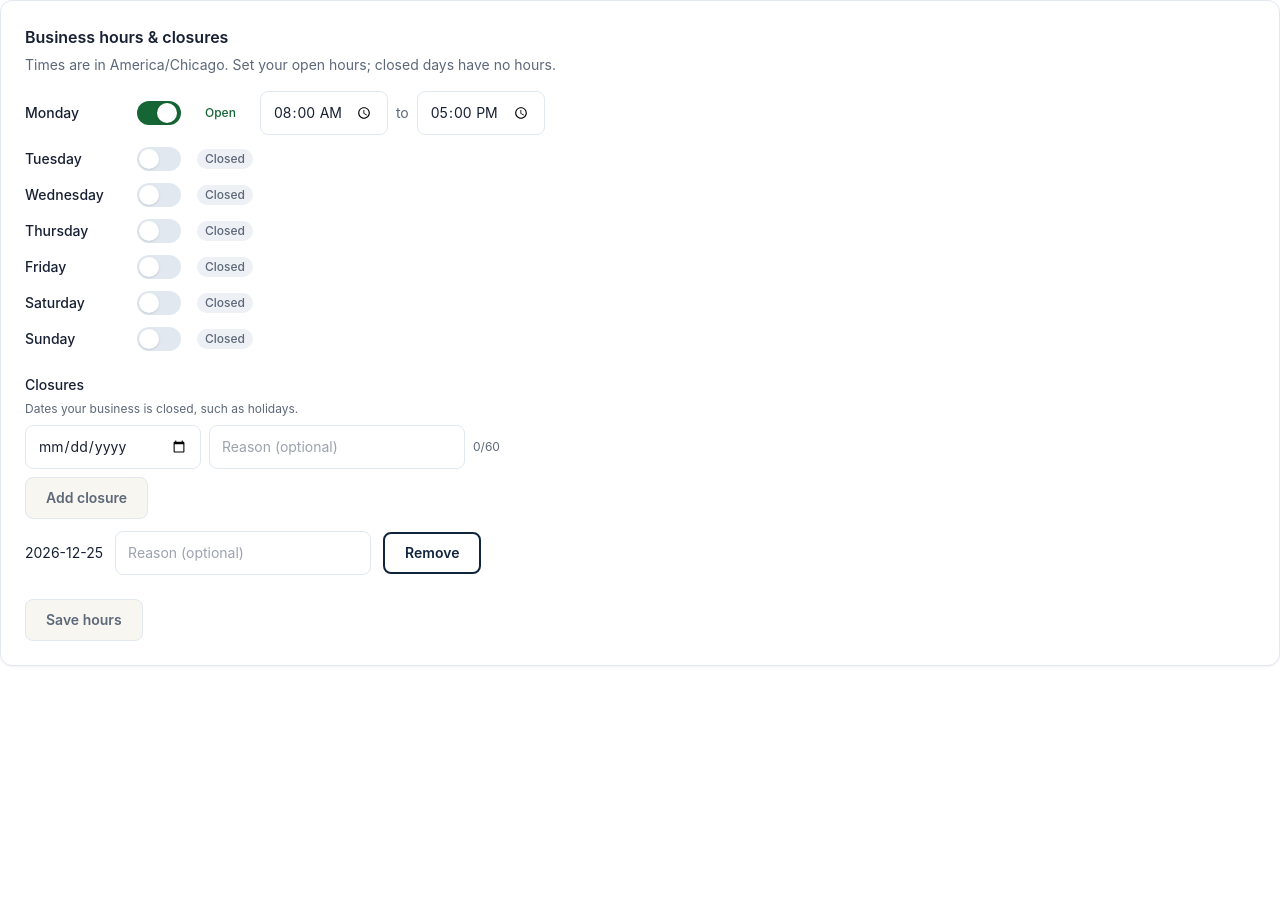
CalendarSection › adds closures sorted, blocks duplicates, and removes them
Type "2026-11-26" into the date field named "Closure date".
click(113, 447); type("2026-11-26")  # box [25,425,201,469]
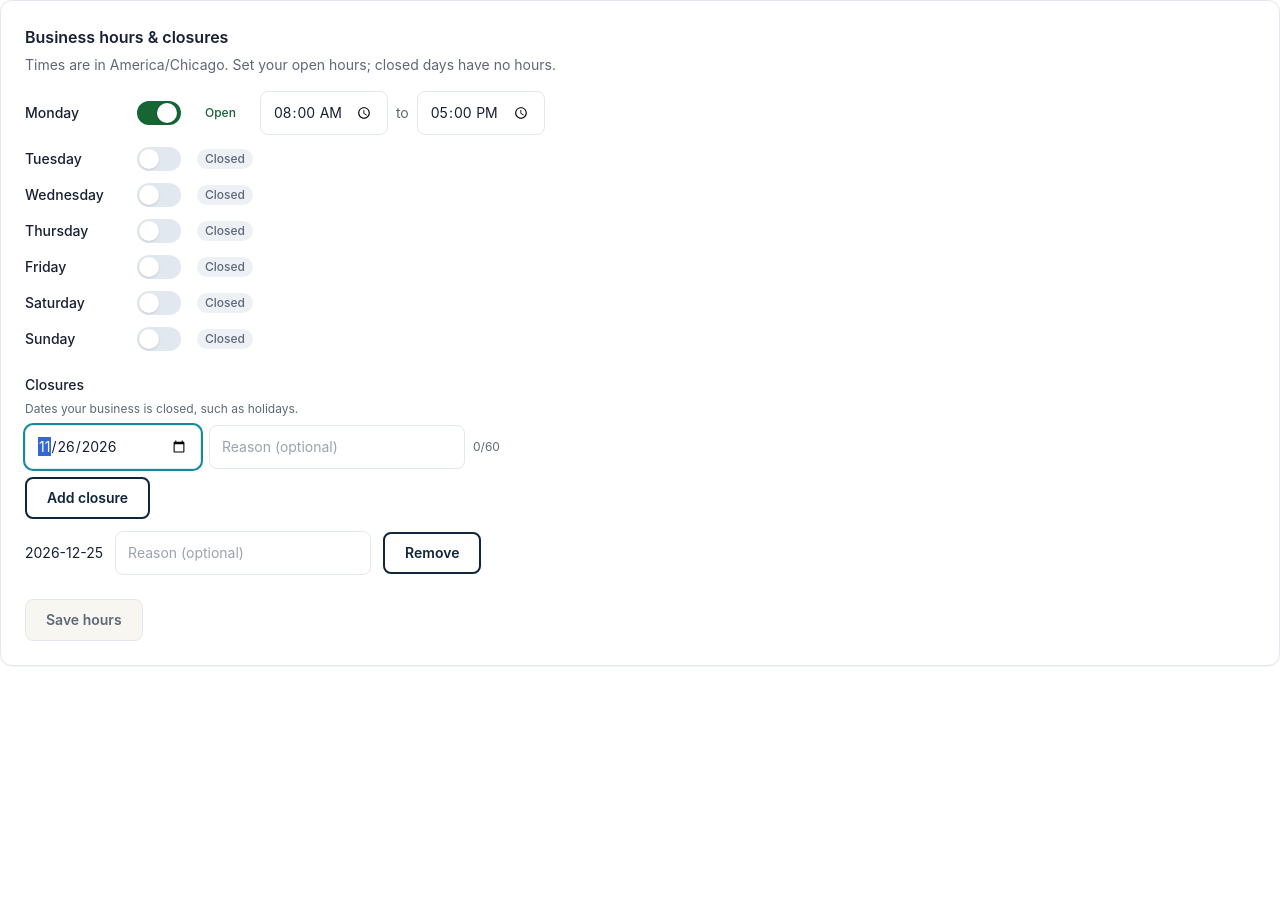
Click the button "Add closure".
click(88, 498)  # box [25,477,150,519]
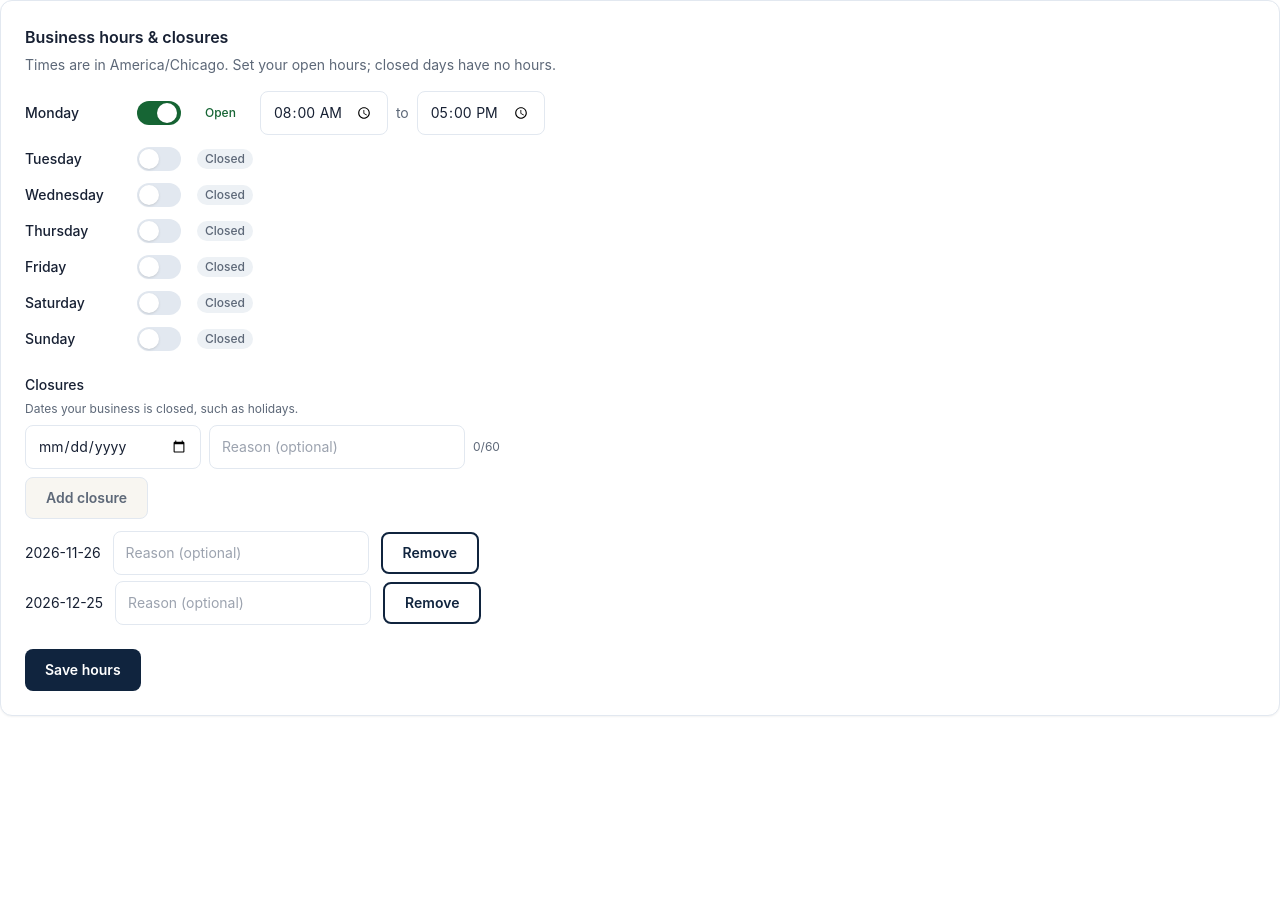
Expected: the list item "2026-12-25 Remove" is shown, [25,581,481,625]
Now the list item "2026-11-26 Remove" is shown, box [25,531,479,575]
Type "2026-12-25" into the date field named "Closure date".
click(113, 447); type("2026-12-25")  # box [25,425,201,469]
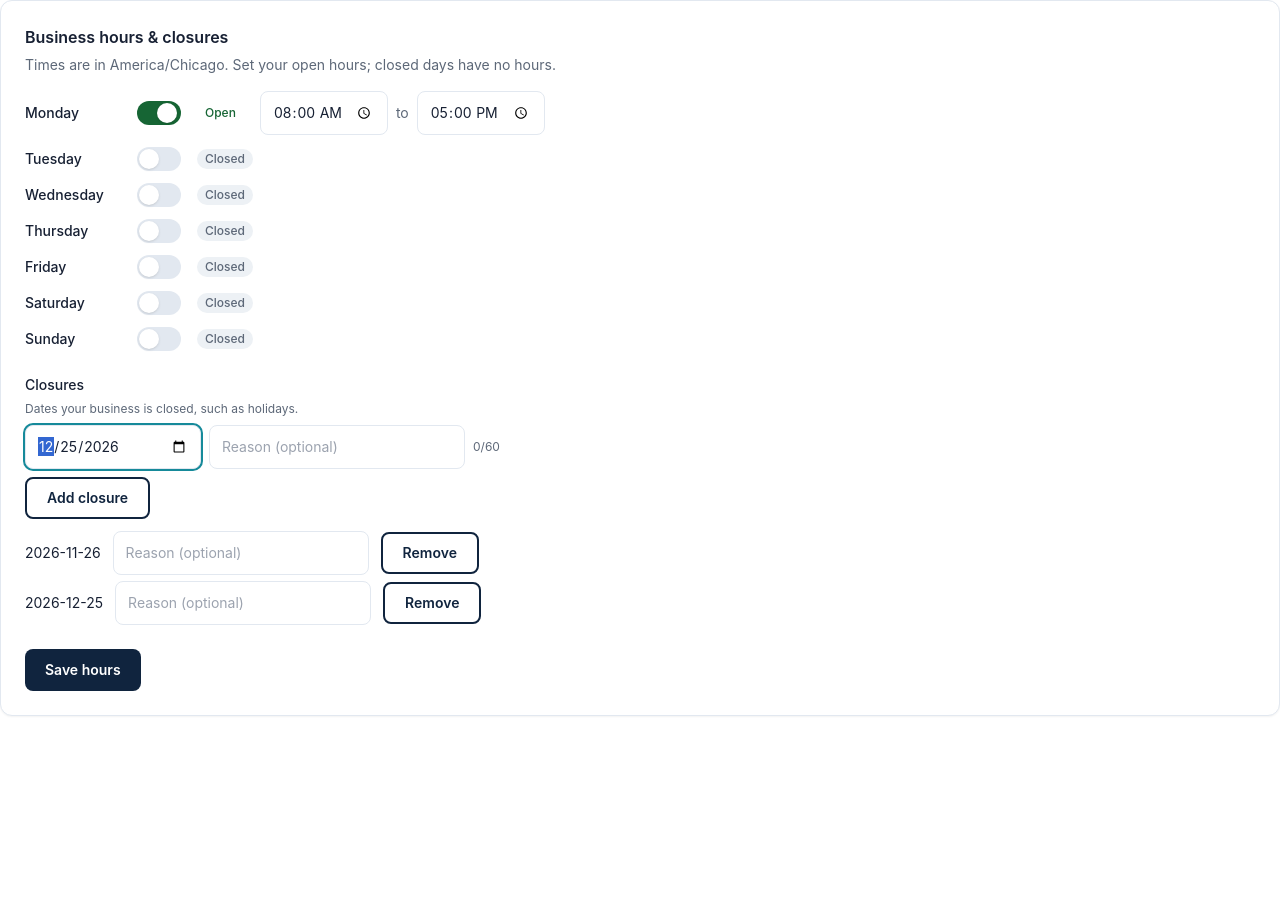
Click the button "Add closure".
click(88, 498)  # box [25,477,150,519]
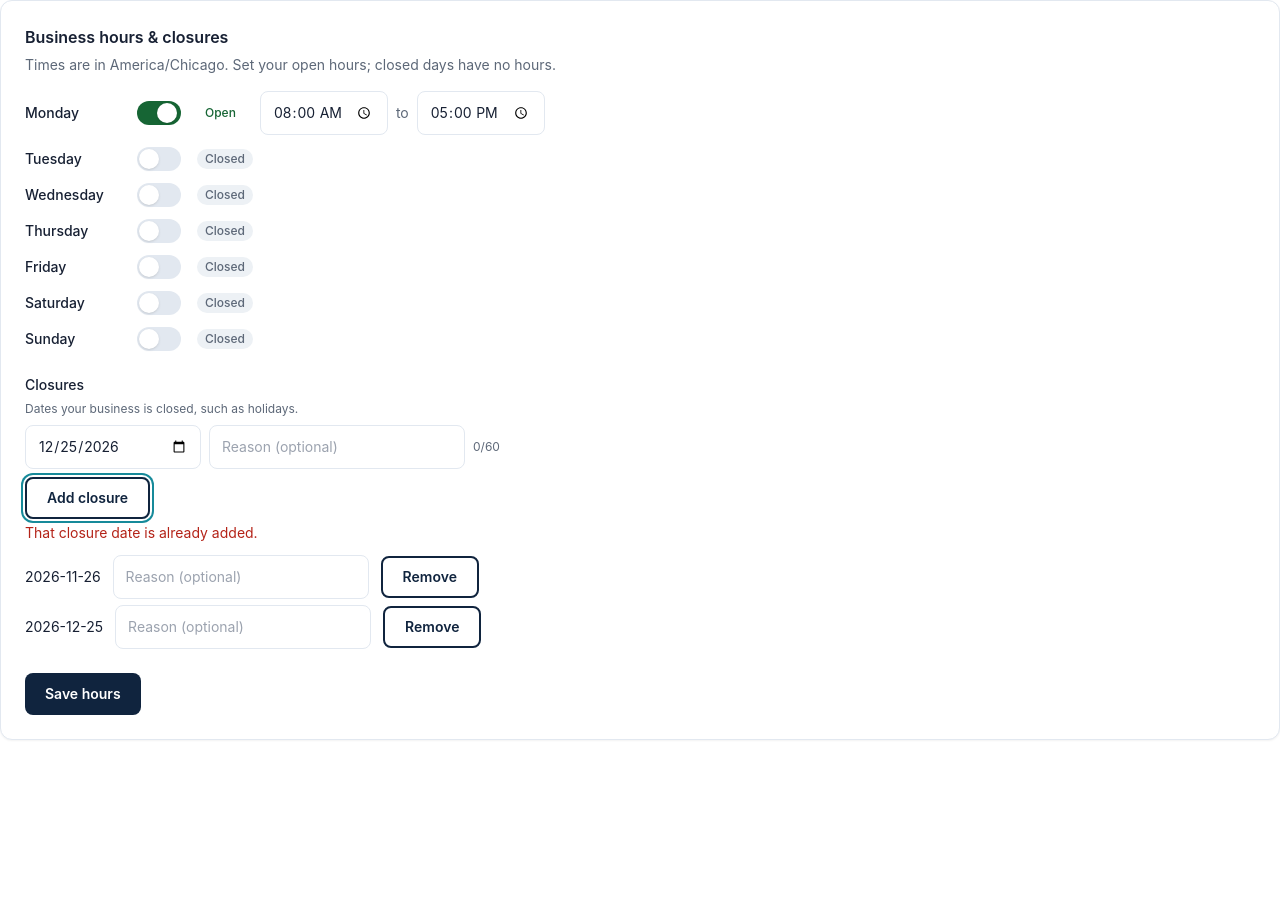
Now the text "That closure date is already added." is shown, box [25,524,258,541]
Click the button with aria-label "Remove closure 2026-11-26".
click(430, 577)  # box [381,556,479,598]
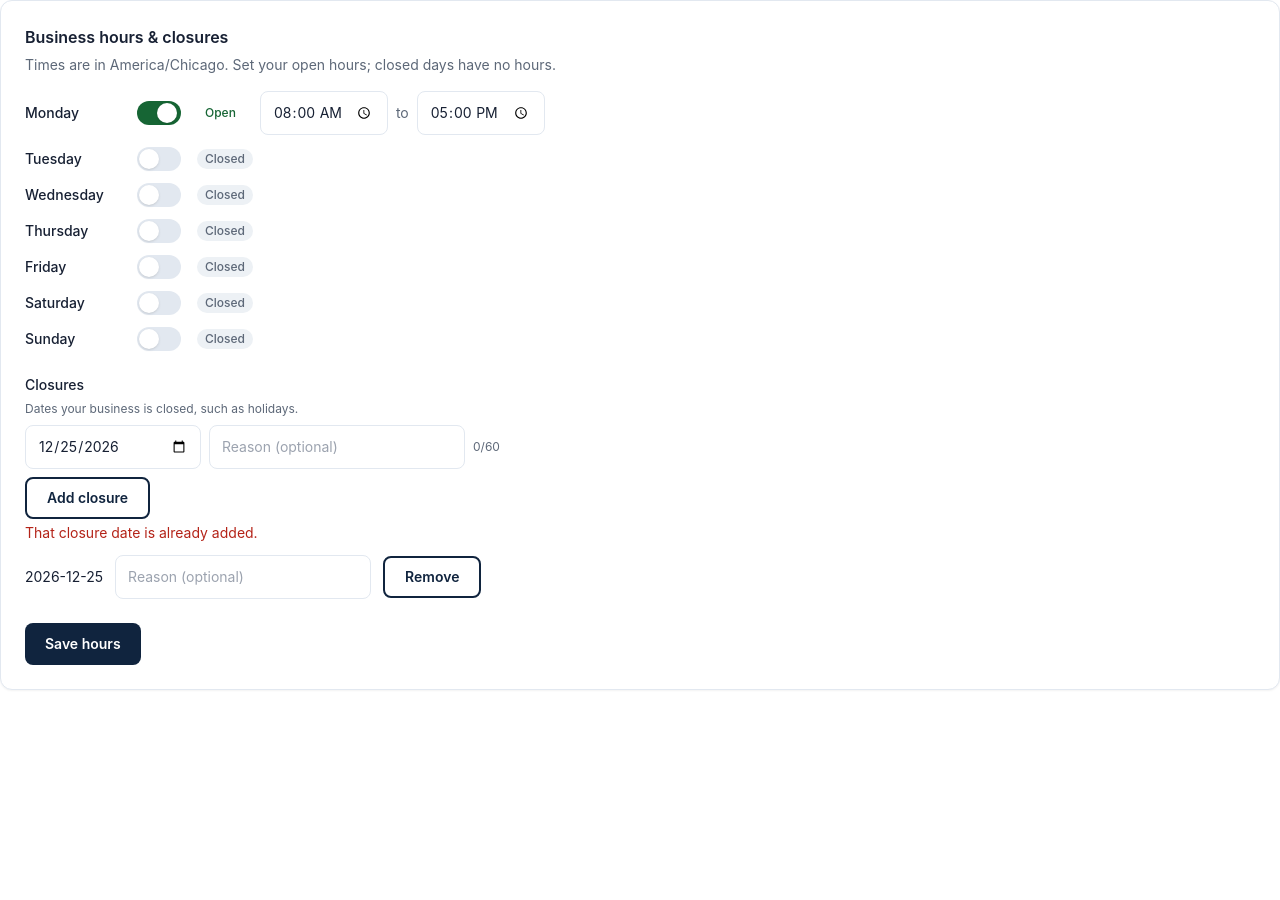
Click the button with aria-label "Remove closure 2026-12-25".
click(432, 577)  # box [383,556,481,598]
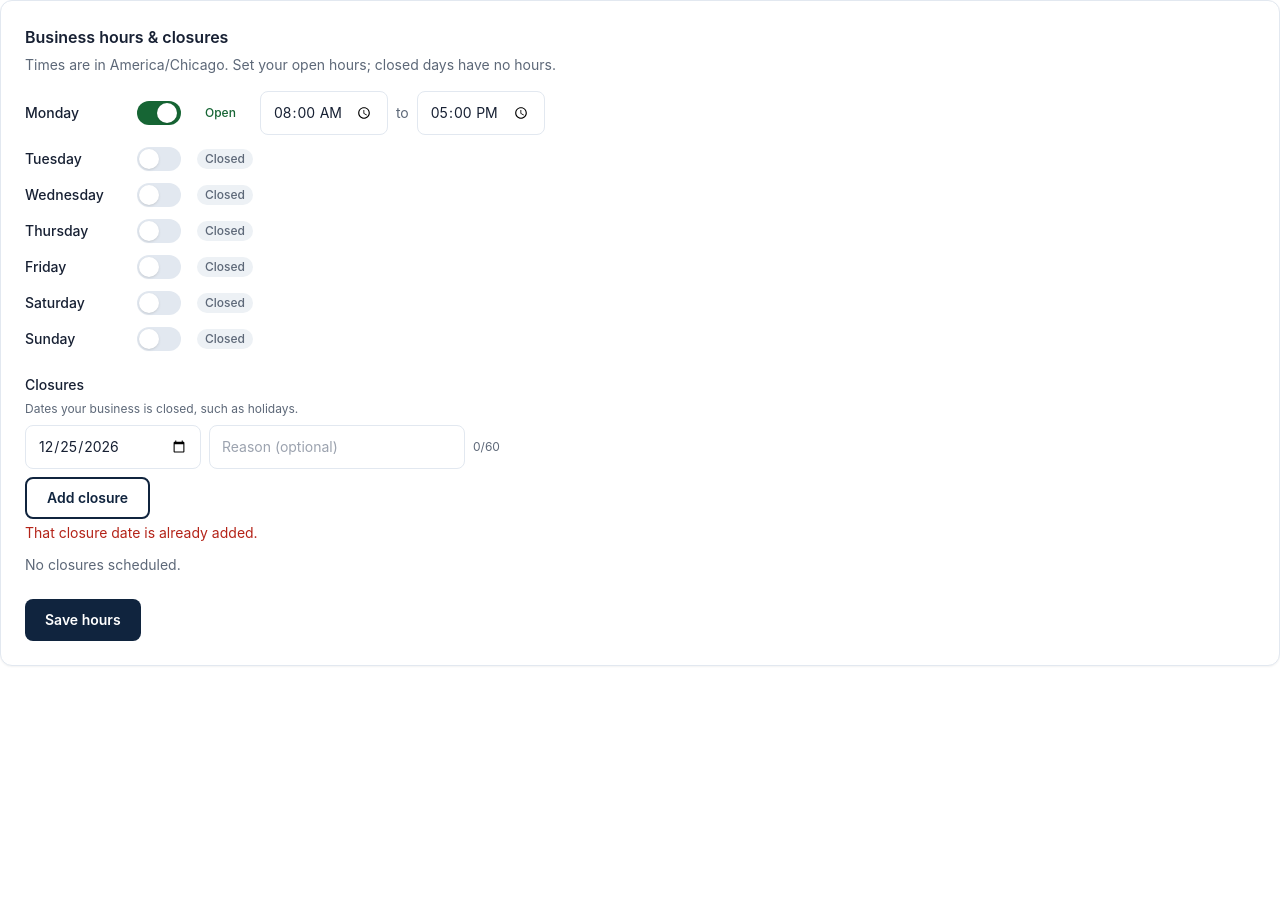
Now the text "No closures scheduled." is shown, box [25,556,181,573]
